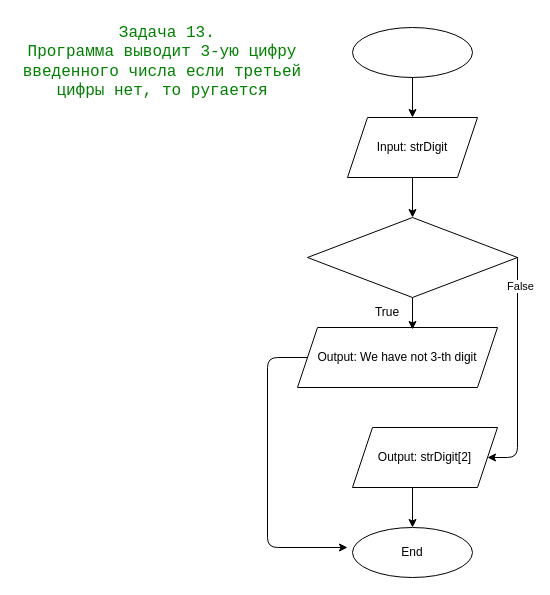
The diagram is 550 pixels wide and 595 high, and some of its shapes have lost their labels. The shapes that lost their labels are listed below. From the top down, each one's box as (x1, y1, x2, y2) in pixels, then its label:
(352, 26, 472, 78): Start
(306, 216, 518, 298): strDigit.length < 3
